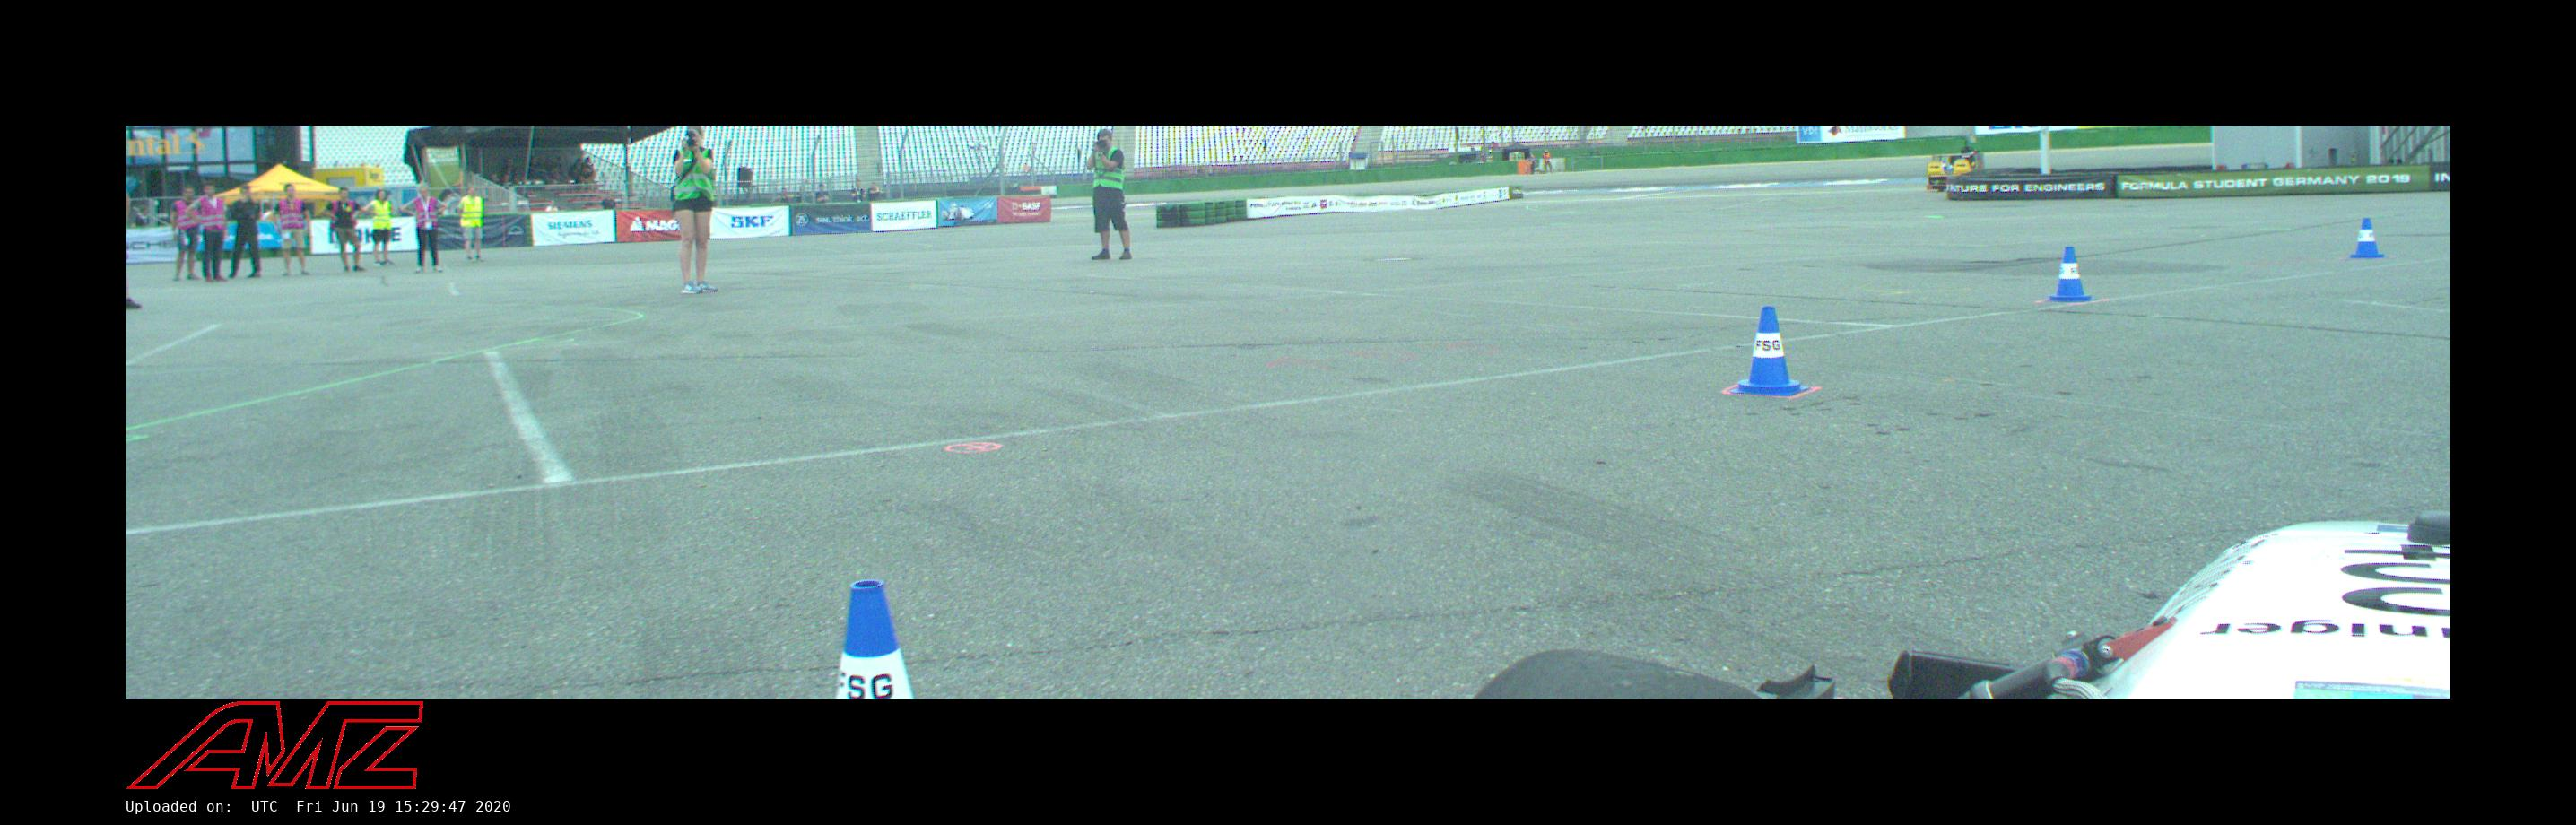blue_cone: (834, 579, 915, 699), (1728, 306, 1810, 396), (2044, 247, 2096, 301), (2349, 219, 2387, 258)
